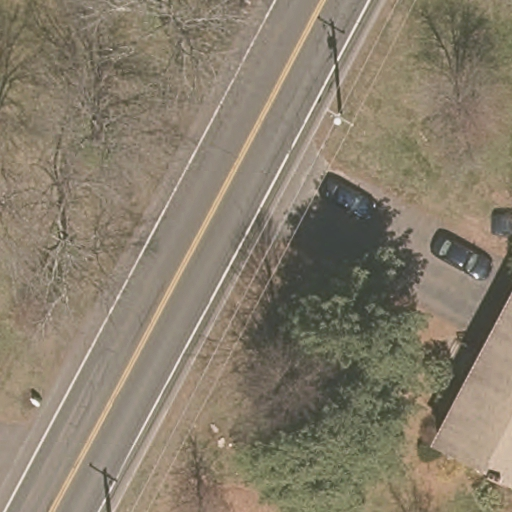DT: (324, 106, 356, 129)
